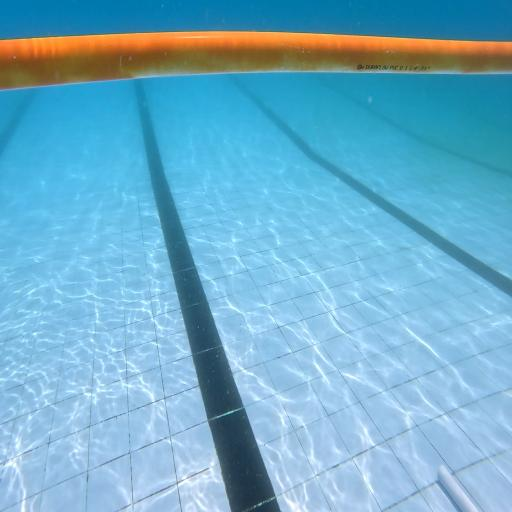upper_gate: (0, 30, 512, 91)
